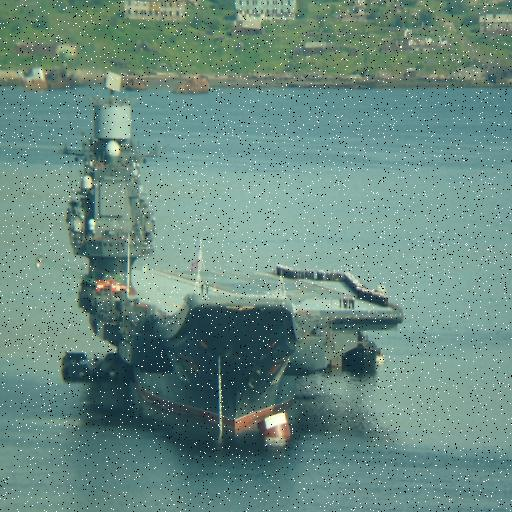Portanaves: (55, 64, 411, 460)
